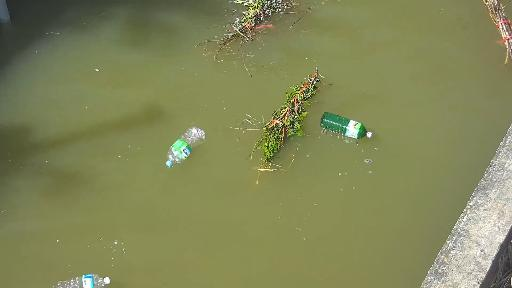plastic: (155, 120, 211, 167), (312, 105, 358, 148), (43, 269, 110, 284)
twig: (238, 55, 330, 161), (191, 0, 314, 73), (484, 0, 512, 76)
